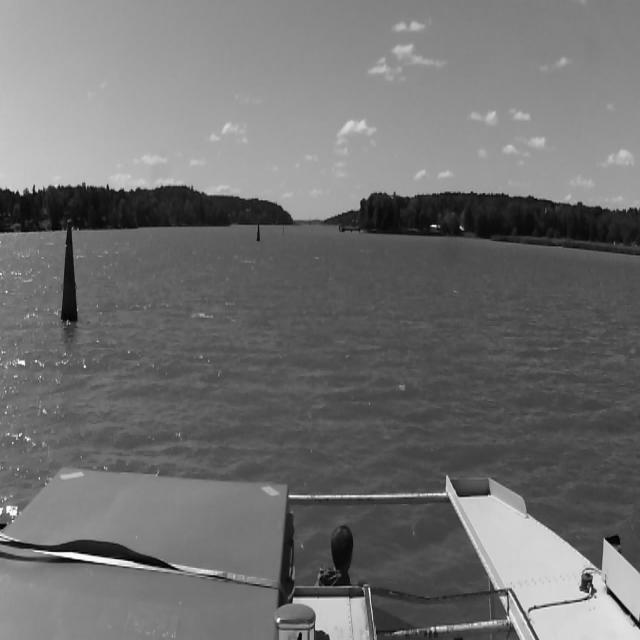buoy: (61, 220, 79, 324), (256, 224, 260, 242)
